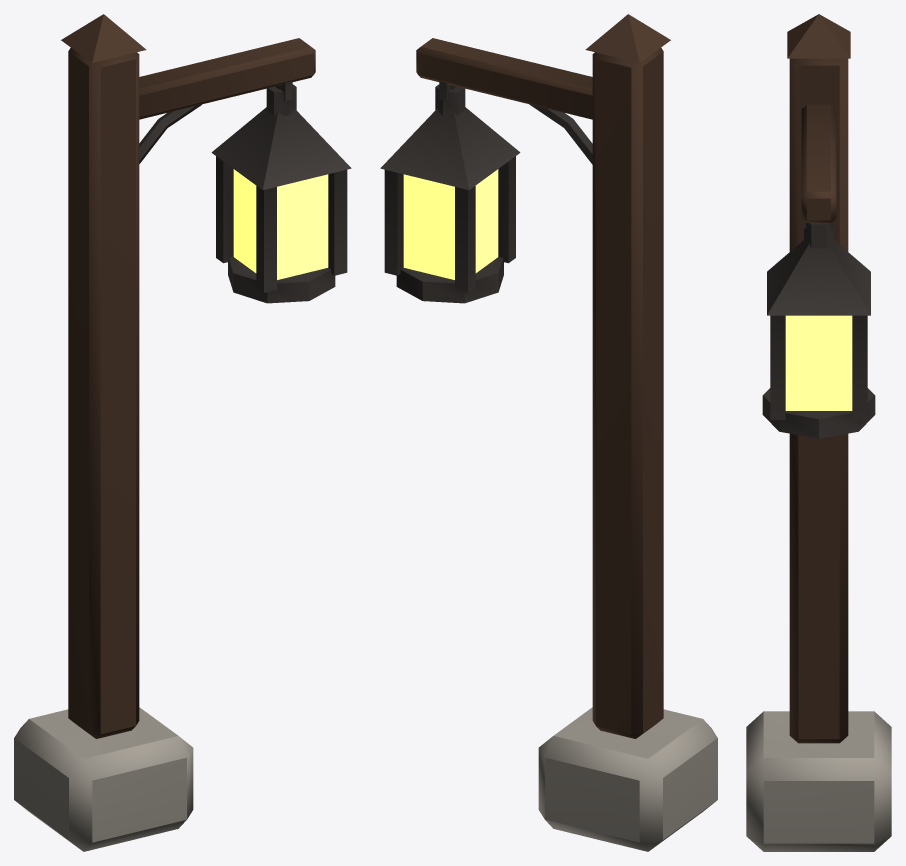
File: lantern_post.glb
3 renders of one model, left to right at view 1: azimuth 30°, elevation 25°; view 2: azimuth 150°, elevation 25°; view 3: azimuth 270°, elevation 25°, orthographic.
Visible parts, largest first — view 1: lantern_post; view 2: lantern_post; view 3: lantern_post.
Part boxes in pixels (x1,y1,x2,y2): lantern_post: (14,14,351,851); lantern_post: (380,14,717,851); lantern_post: (746,14,891,851).
Bounding box in the file's own units: 0.9725 × 2.6 × 0.42.
